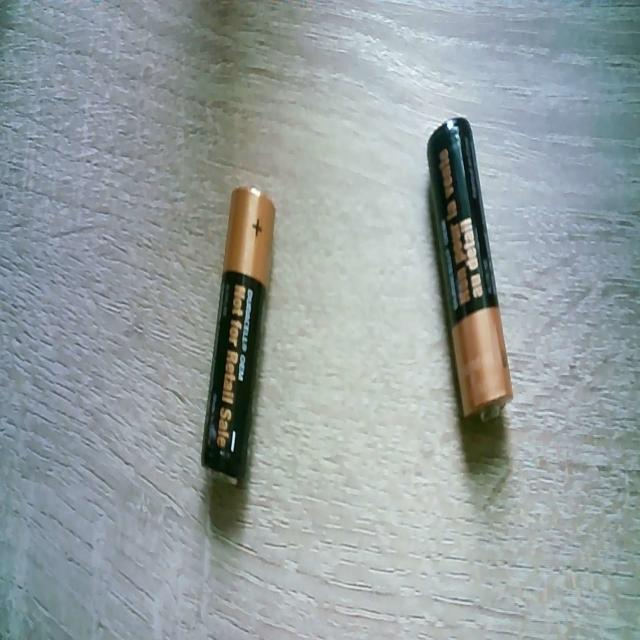AA: (426, 115, 513, 422), (200, 184, 276, 481)
